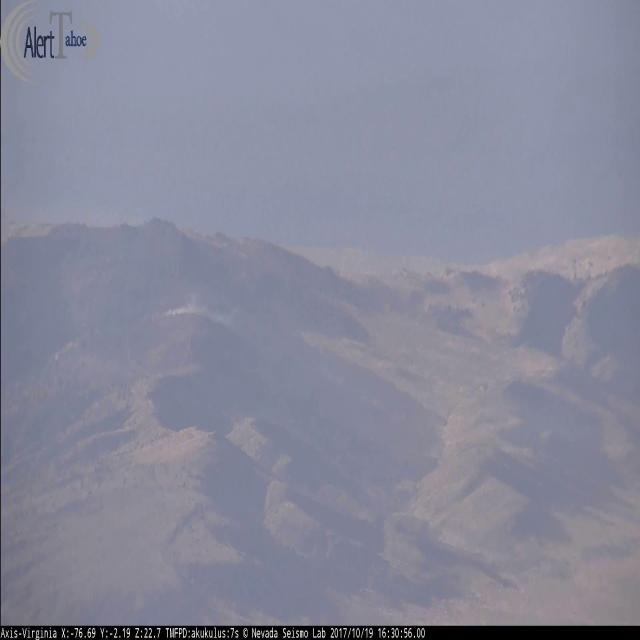smoke: (142, 300, 266, 352)
